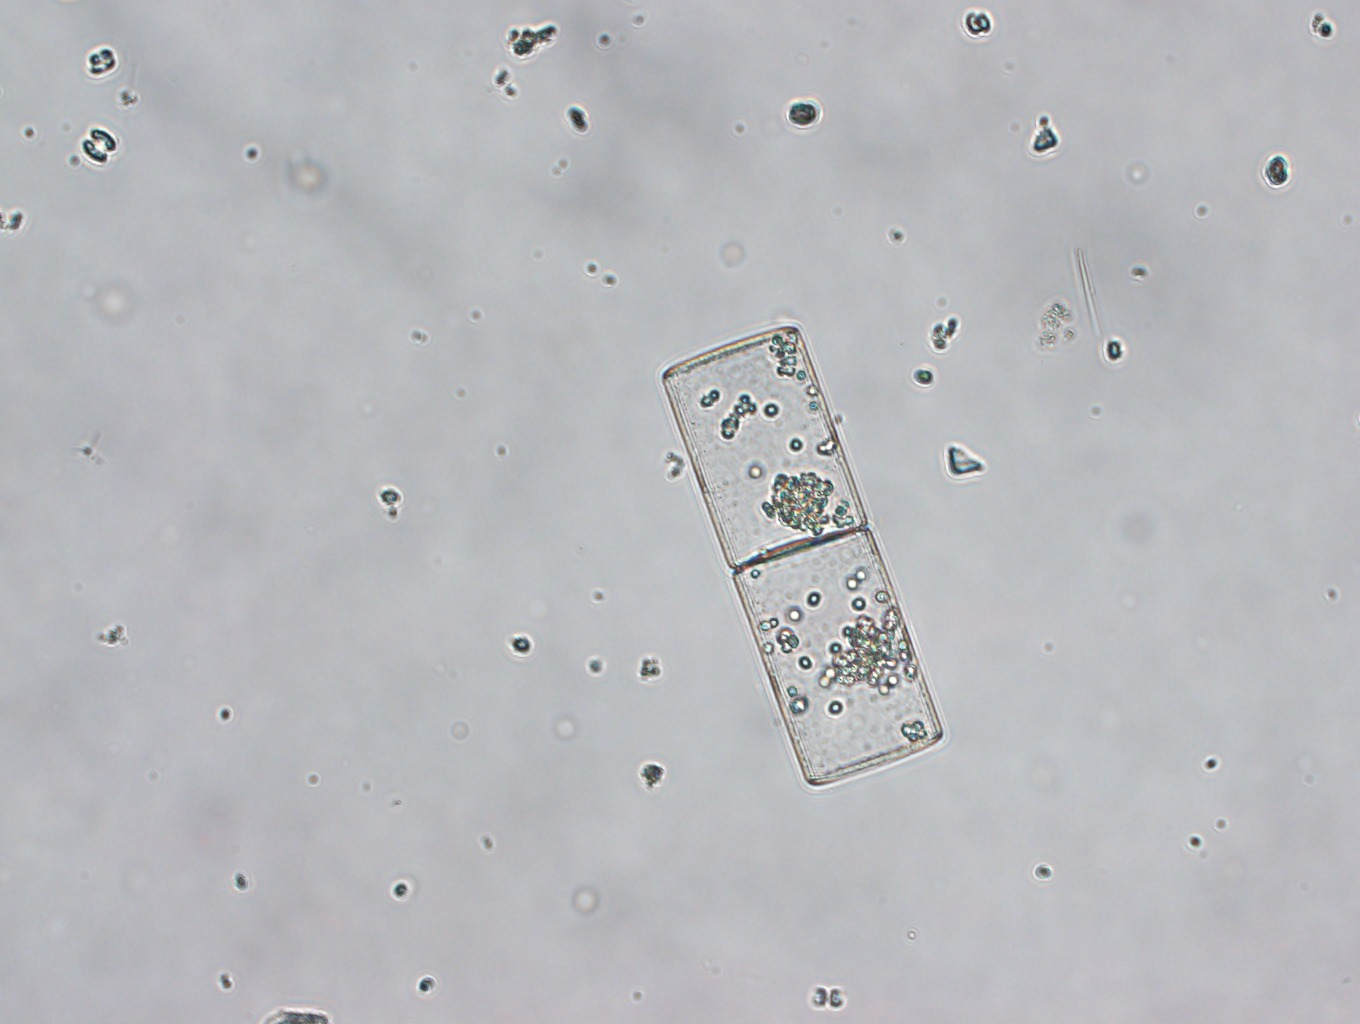guinardia flaccida: (650, 321, 948, 795)
